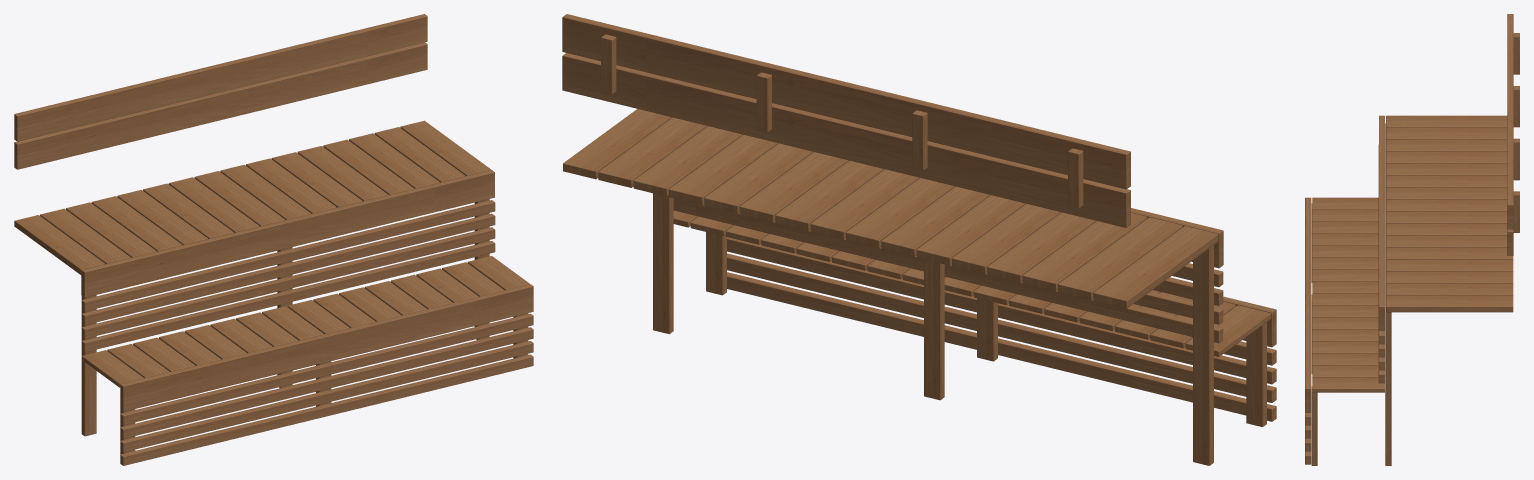
File: Roundy_Lava.glb
The picture shows the model from 3 angles, left to right: view 1: azimuth 30°, elevation 25°; view 2: azimuth 150°, elevation 25°; view 3: azimuth 270°, elevation 25°; orthographic projection. The views are drawn at different scales.
Visible parts, largest first — view 1: Box2131641172 (×2), Box2131641153, Box2131641169, Box2131641155, Box2131641156, Box2131641160, Box2131641174; view 2: Box2131641153, Box2131641169, Box2131641172 (×2), Box2131641174 (×3), Box2131641155, Box2131641162 (×3), Box160, Box2131641160; view 3: Box2131641153, Box2131641155, Box2131641169, Box2131641156, Box2131641160, Box160, Box2131641174, Box2131641172 (×2), Box2131641162.
Part boxes in pixels (box(x1,y1,x2,y2)): Box2131641172 (×2): box(81, 200, 533, 465); Box2131641153: box(14, 120, 491, 274); Box2131641169: box(14, 14, 427, 169); Box2131641155: box(81, 256, 529, 387); Box2131641156: box(120, 284, 533, 411); Box2131641160: box(81, 170, 494, 297); Box2131641174: box(81, 295, 96, 436); Box2131641153: box(563, 109, 1218, 308); Box2131641169: box(562, 14, 1130, 227); Box2131641172 (×2): box(673, 198, 1276, 421); Box2131641174 (×3): box(653, 193, 1213, 465); Box2131641155: box(673, 210, 1271, 356); Box2131641162 (×3): box(706, 232, 1266, 426); Box160: box(601, 34, 1083, 208); Box2131641160: box(1131, 208, 1223, 268); Box2131641153: box(1386, 115, 1513, 312); Box2131641155: box(1312, 197, 1384, 392); Box2131641169: box(1507, 14, 1513, 255); Box2131641156: box(1305, 197, 1311, 412); Box2131641160: box(1379, 115, 1384, 330); Box160: box(1513, 33, 1519, 232); Box2131641174: box(1385, 306, 1391, 465); Box2131641172 (×2): box(1305, 145, 1384, 464); Box2131641162: box(1311, 386, 1317, 465).
Bounding box in the file's own units: 2.02 × 1.29 × 0.9589.
Materials: 1 (1 with a texture image).
